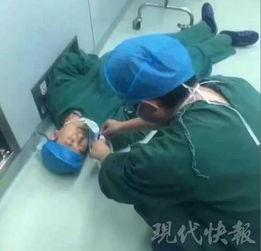Fall-Detected: (33, 27, 168, 169)
